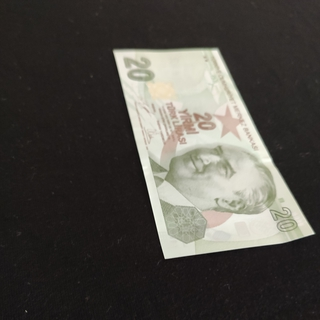20TLFront: (111, 47, 317, 259)
